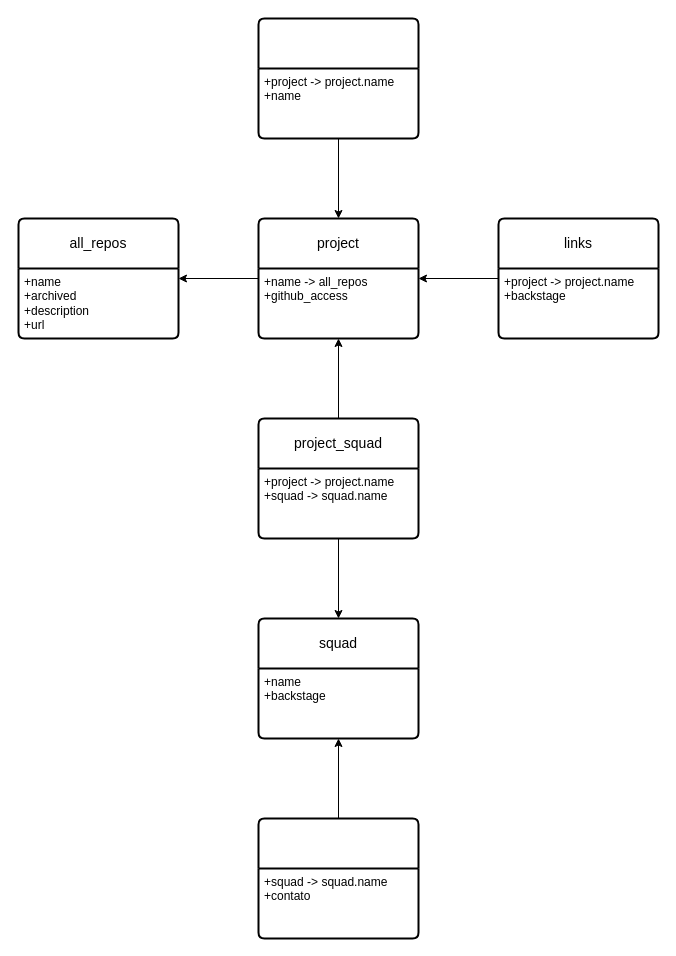
Image size: 676x956. Some labels were removed from this diagram. The box of each missing label's shape, as (x1, y1, x2, y2) in pixels:
deployments: (257, 17, 419, 139)
squad_contato: (257, 817, 419, 939)
